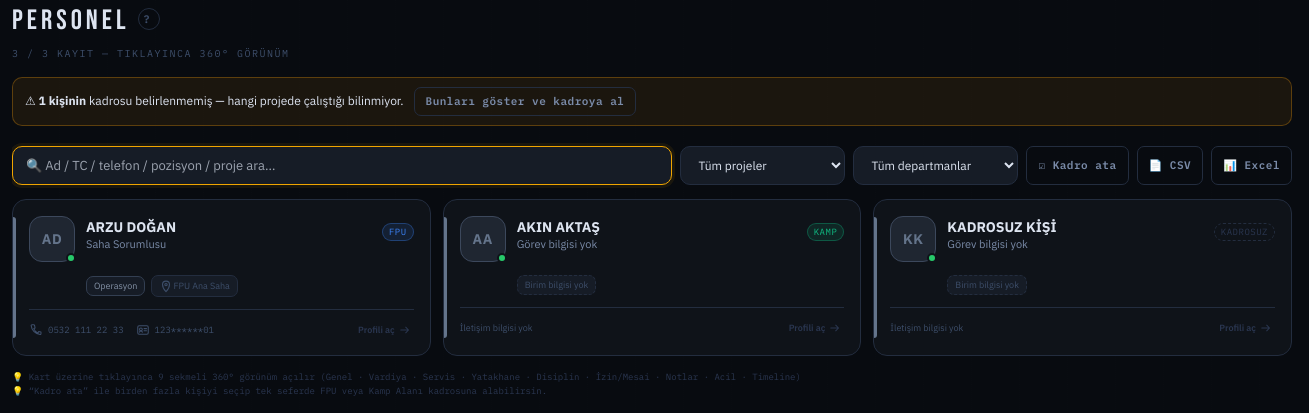
Personel listesi — kadro › seçim modunda kart tıklaması kişiyi seçer, sayfadan çıkmaz
The width and height of the screenshot is (1309, 413).
Expected: the heading "ARZU DOĞAN" is shown, [86,218,176,237]
Click the button "☑ Kadro ata": point(1077, 165) [1026,146,1128,185]
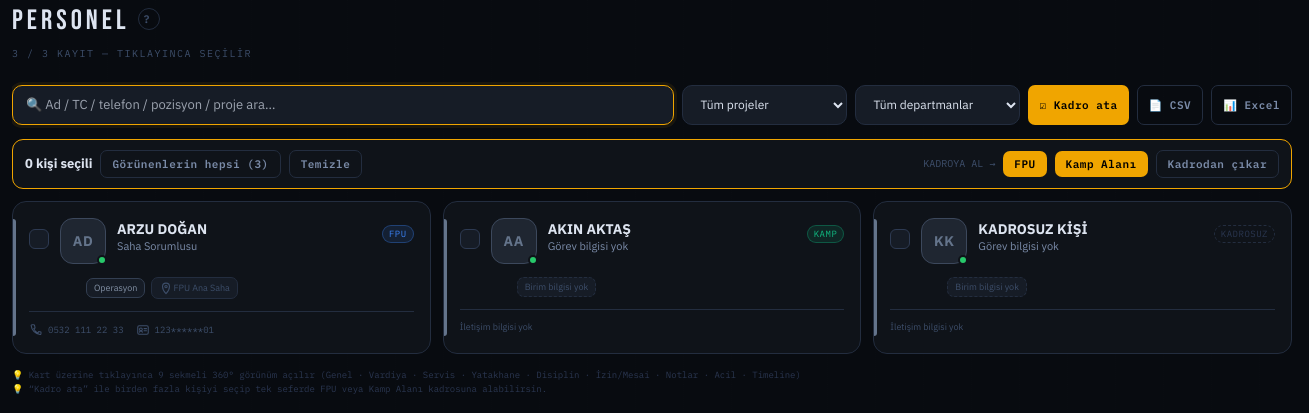
Click the heading "ARZU DOĞAN": point(162, 229) [117,220,207,239]
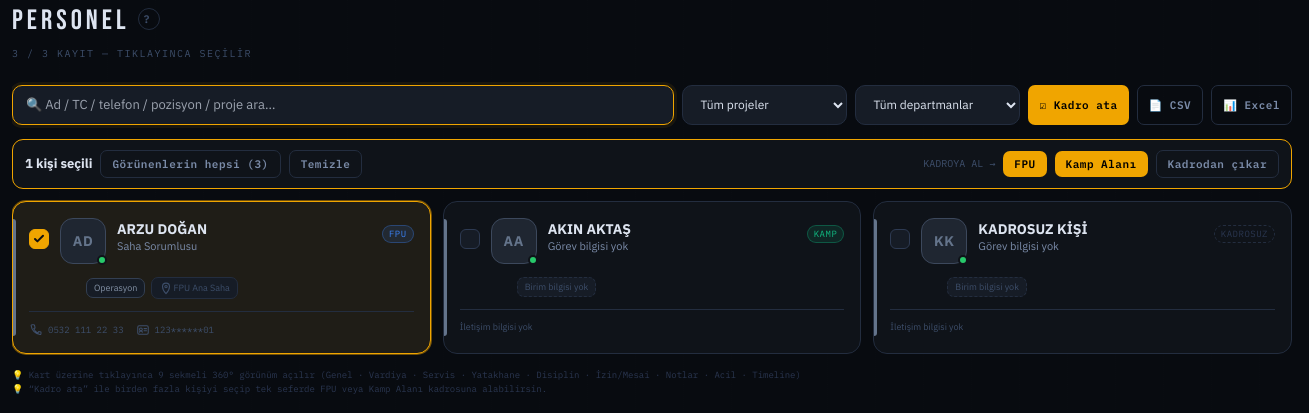
Expected: the checkbox named "ARZU DOĞAN seç" is checked, [29,229,49,249]
Expected: the text "1 kişi seçili" is shown, [25,154,92,174]
